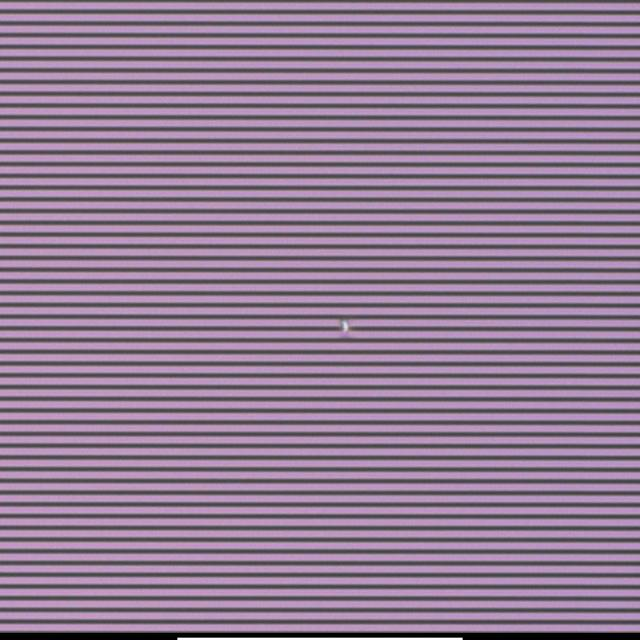nonvisual: (339, 316, 357, 338)
